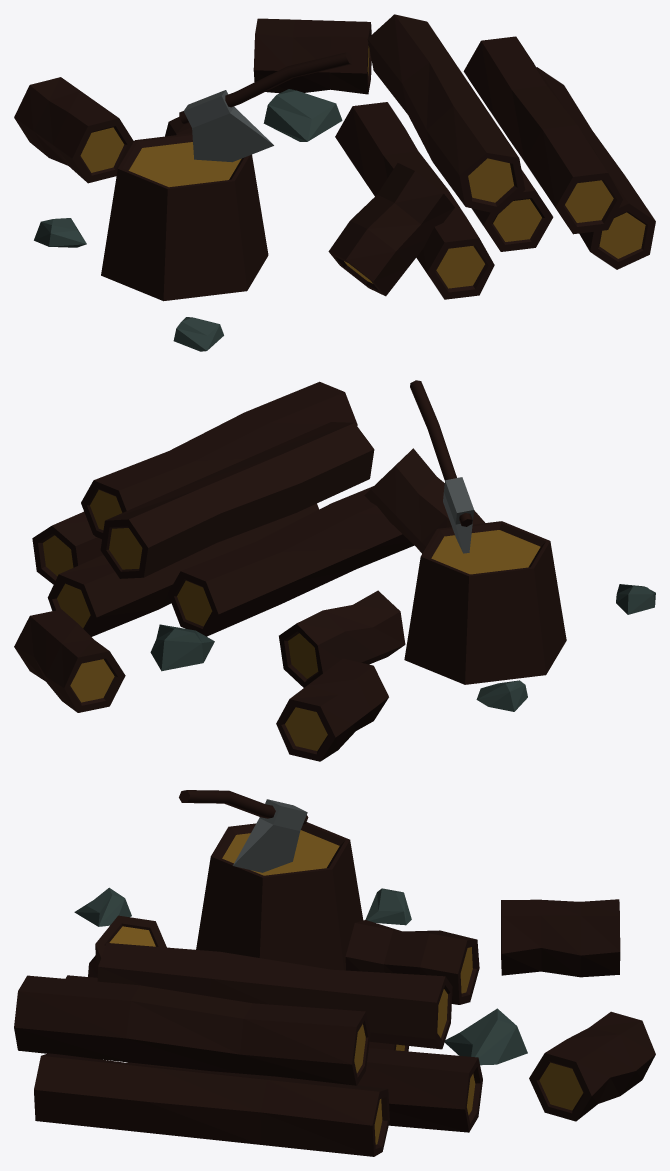
Rendered from SM_Wood.fbx.
3 views of the same model, one above another, from view 1: azimuth 30°, elevation 25°; view 2: azimuth 150°, elevation 25°; view 3: azimuth 270°, elevation 25° (orthographic). The views are drawn at different scales.
Visible parts, largest first — view 1: Cylinder009; view 2: Cylinder009; view 3: Cylinder009.
Part boxes in pixels (x1,y1,x2,y2): Cylinder009: (14,14,655,351); Cylinder009: (14,380,655,761); Cylinder009: (14,790,655,1156).
Size of the model in its own units: 34.58 by 13.94 by 35.76.
